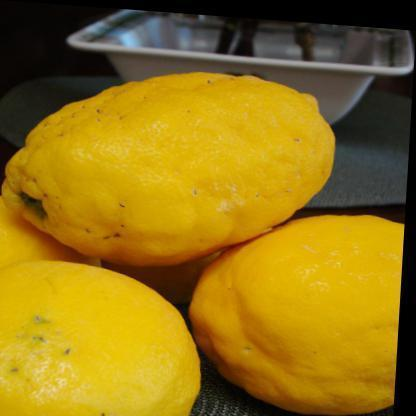lemon: (1, 71, 336, 268), (188, 214, 404, 416), (0, 260, 200, 416)
